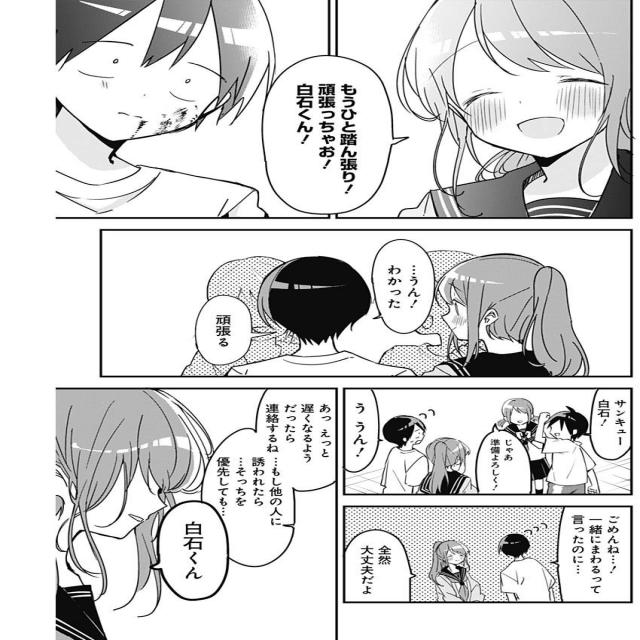Bubble: (259, 53, 401, 216), (200, 428, 298, 566), (255, 387, 338, 493), (154, 500, 232, 602), (555, 504, 633, 604), (370, 237, 434, 335), (344, 528, 416, 603), (472, 428, 536, 498), (194, 294, 255, 366), (339, 384, 382, 474), (588, 387, 636, 461)
